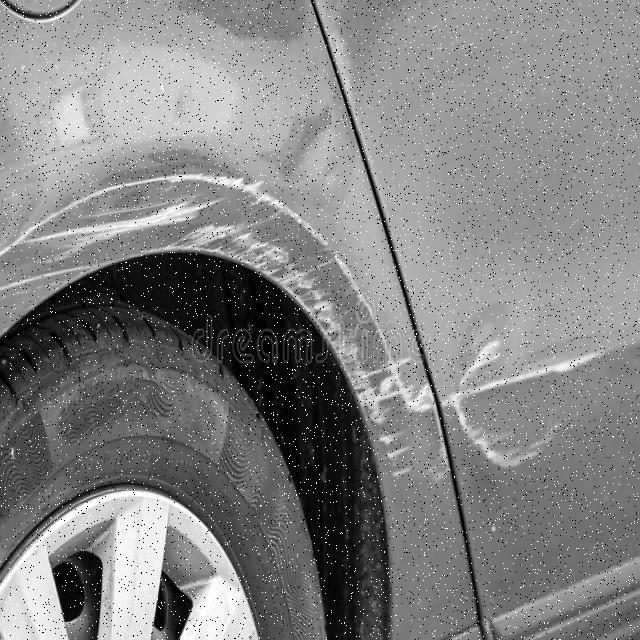fender-dent: (1, 0, 320, 520), (90, 178, 448, 639)
